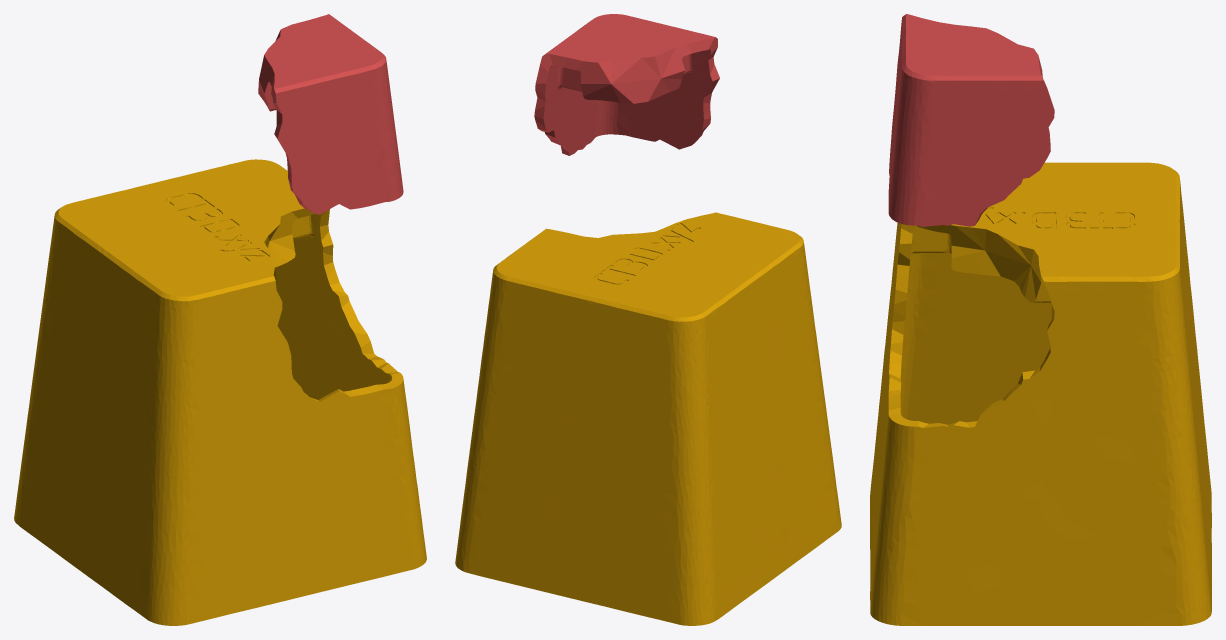
The model's file is fractured_42_2pcs_transformed.glb.
3 views of the same model, side by side, from view 1: azimuth 30°, elevation 25°; view 2: azimuth 150°, elevation 25°; view 3: azimuth 270°, elevation 25° (orthographic). The views are drawn at different scales.
Visible parts, largest first — view 1: piece_0.obj, piece_1.obj; view 2: piece_0.obj, piece_1.obj; view 3: piece_0.obj, piece_1.obj.
Part boxes in pixels (x1,y1,x2,y2): piece_0.obj: [14, 159, 426, 625]; piece_1.obj: [258, 14, 403, 214]; piece_0.obj: [455, 212, 841, 625]; piece_1.obj: [534, 14, 719, 155]; piece_0.obj: [870, 162, 1211, 625]; piece_1.obj: [888, 14, 1054, 226].
Bounding box in the file's own units: 0.9245 × 1.6 × 0.9245.
